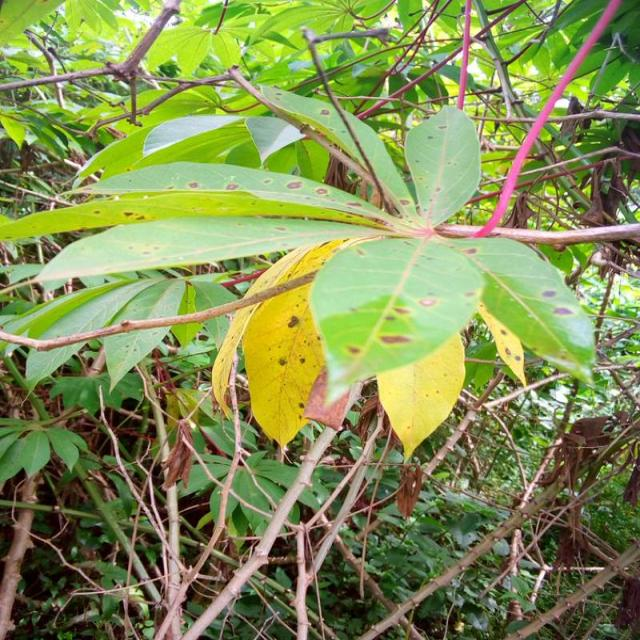cassava leaf: (2, 85, 598, 462), (214, 235, 368, 448), (307, 233, 483, 401), (374, 328, 466, 463), (403, 104, 481, 228)
